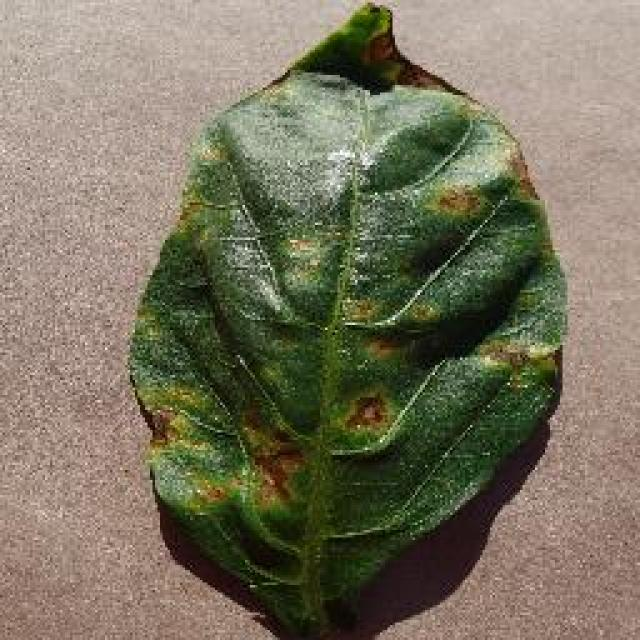Chilli_Bacterial_Spot: (122, 0, 570, 638), (478, 335, 560, 393), (250, 443, 308, 505), (340, 390, 392, 438), (428, 182, 482, 220), (335, 290, 380, 328), (360, 330, 408, 365), (192, 138, 230, 170)
